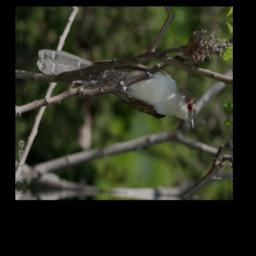Cuckoo: (35, 46, 201, 135)
